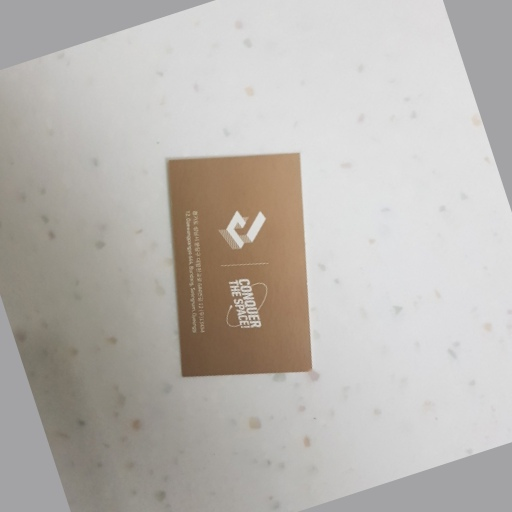Paper_2: (155, 145, 329, 390)
